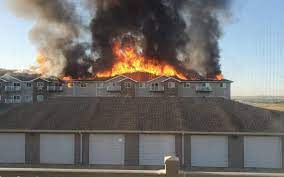smoke: (2, 1, 246, 76)
